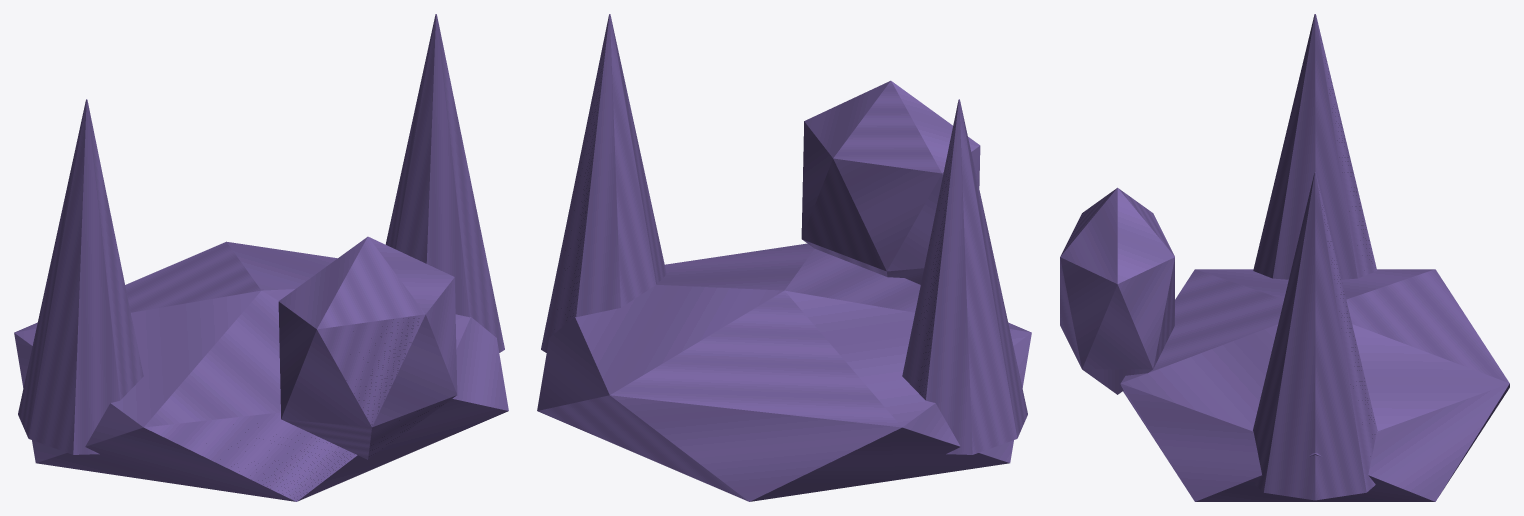
File: gravity_law.glb
3 renders of one model, left to right at view 1: azimuth 30°, elevation 25°; view 2: azimuth 150°, elevation 25°; view 3: azimuth 270°, elevation 25°, orthographic. The views are drawn at different scales.
Visible parts, largest first — view 1: gear_gravity_law; view 2: gear_gravity_law; view 3: gear_gravity_law.
Part boxes in pixels (x1,y1,x2,y2): gear_gravity_law: (14, 14, 508, 501); gear_gravity_law: (537, 14, 1031, 501); gear_gravity_law: (1060, 14, 1509, 501).
Size of the model in its own units: 0.48 by 0.39 by 0.4324.
Materials: 1 (1 with a texture image).
